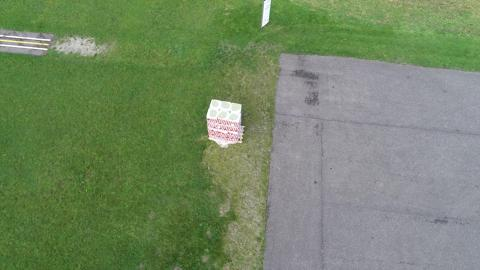RockwoolPallet: (205, 99, 245, 146)
